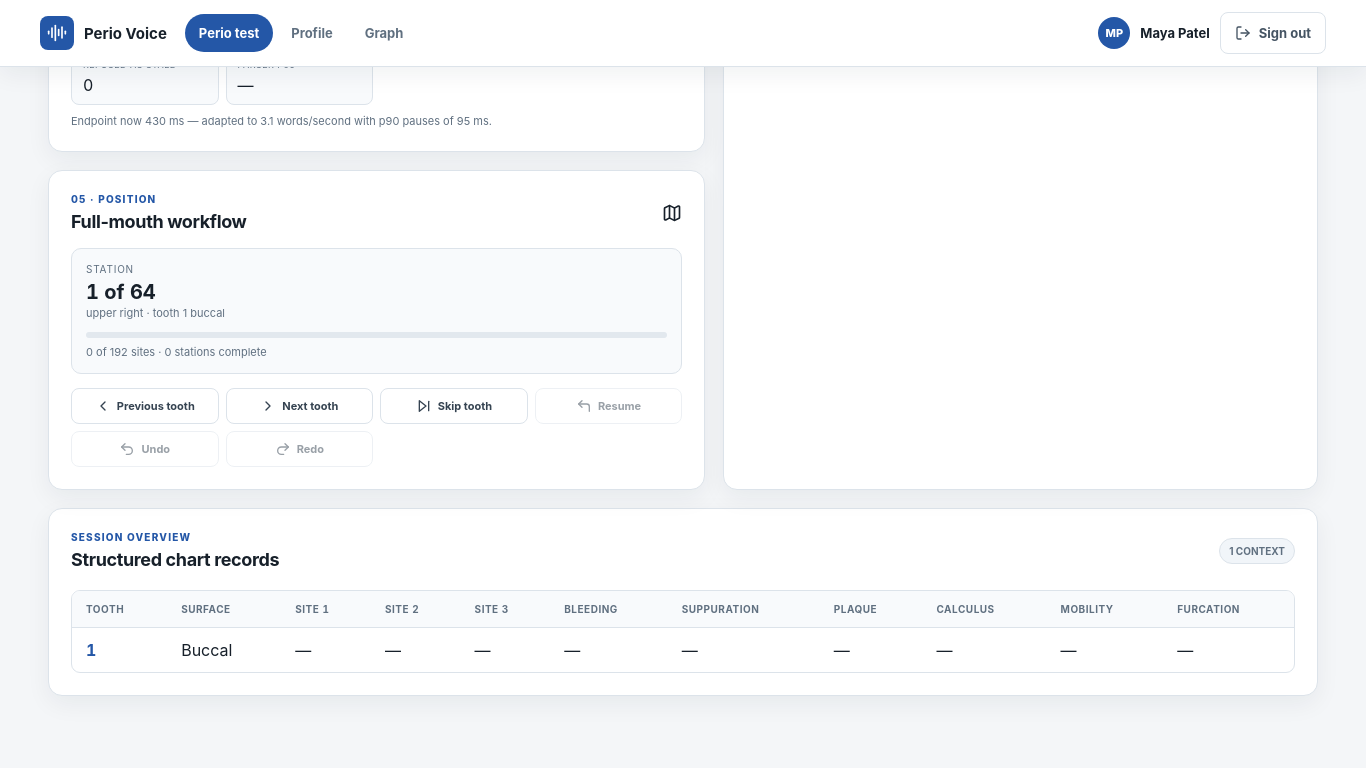
Test: full-mouth workflow controls › marks a tooth absent and says so
(page scrolled)
Click the button "Skip tooth": (454,406) [380,388,528,424]
(page scrolled)
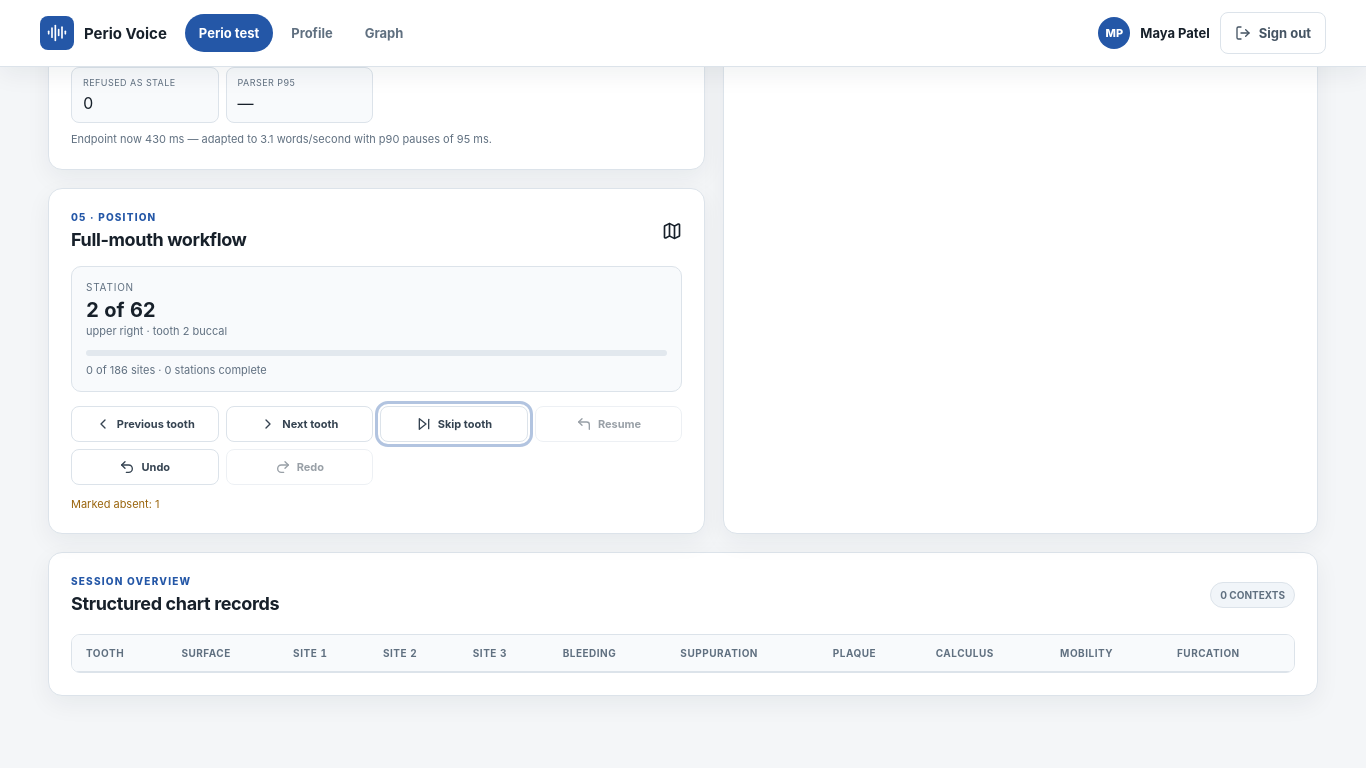
Check: the text "Marked absent: 1" is shown, box [71,498,159,512]
